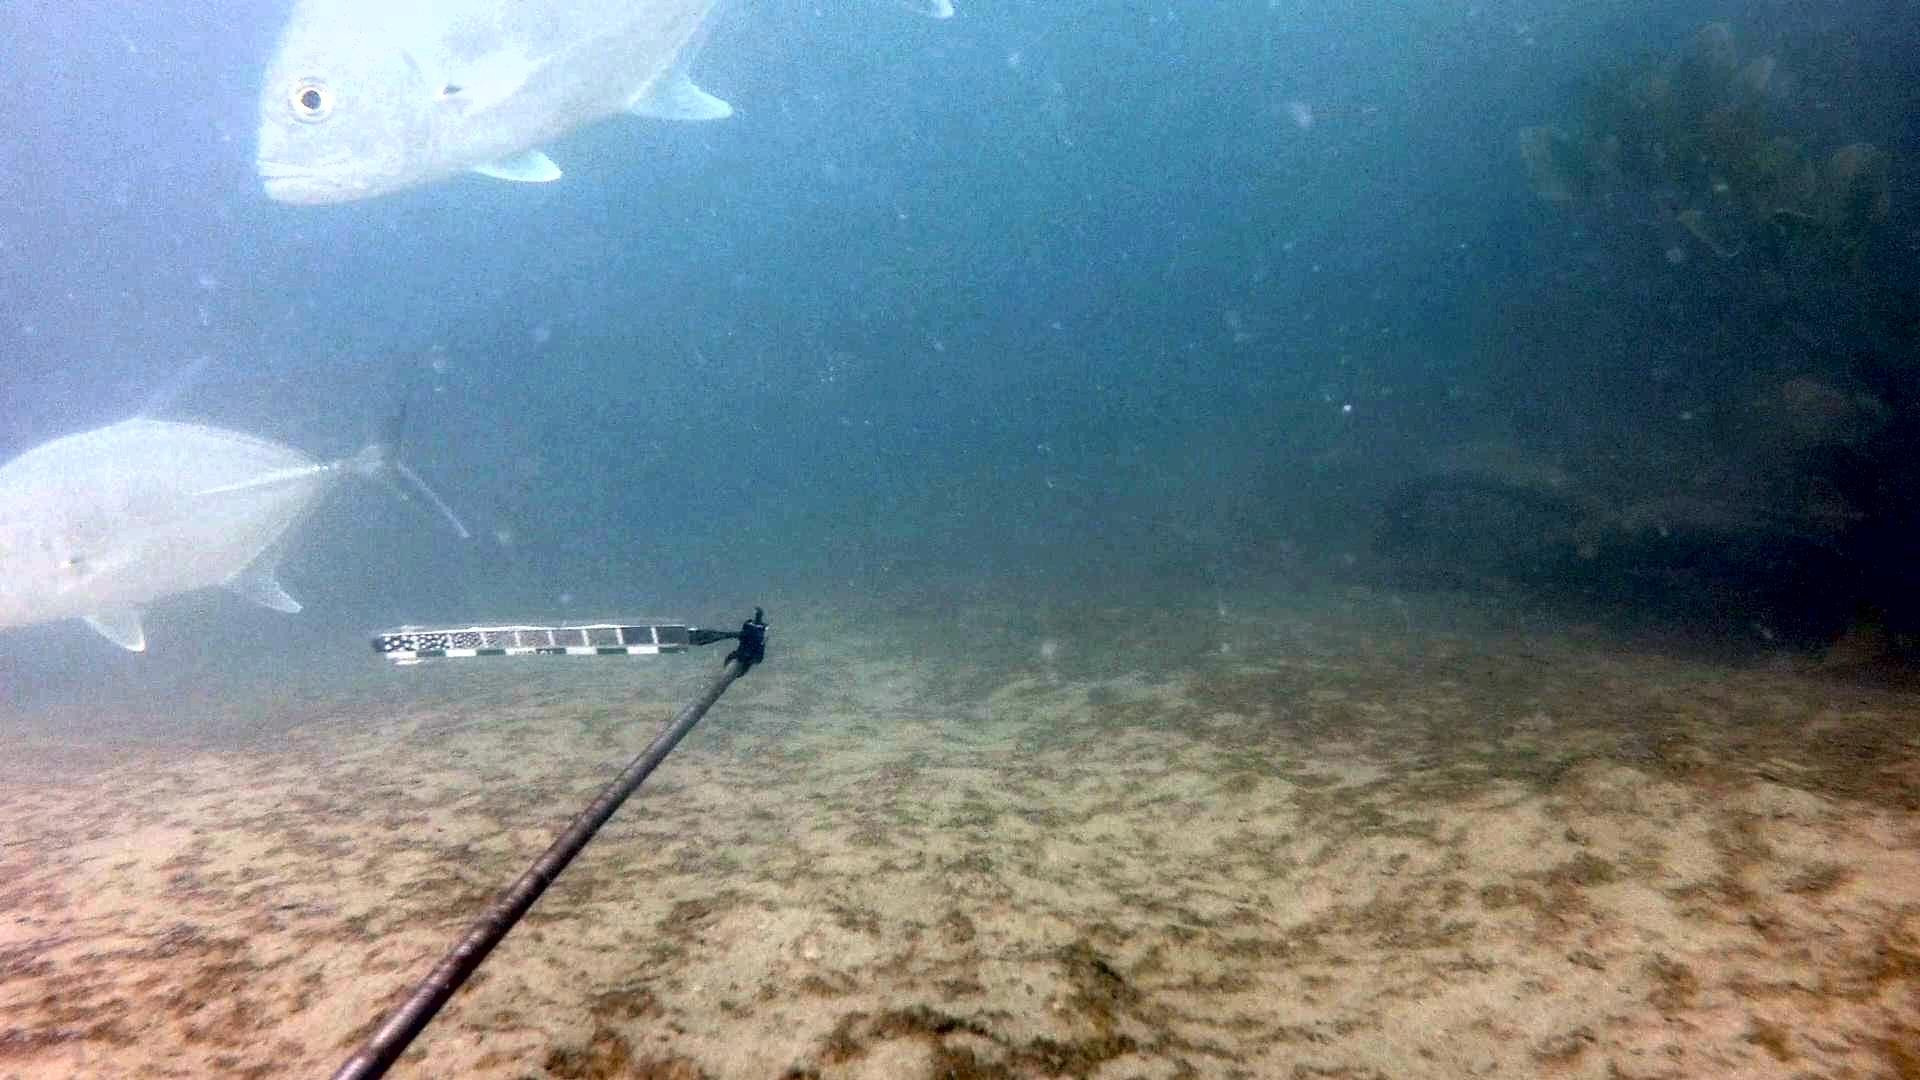caranx: (0, 311, 477, 664), (246, 0, 757, 215)
